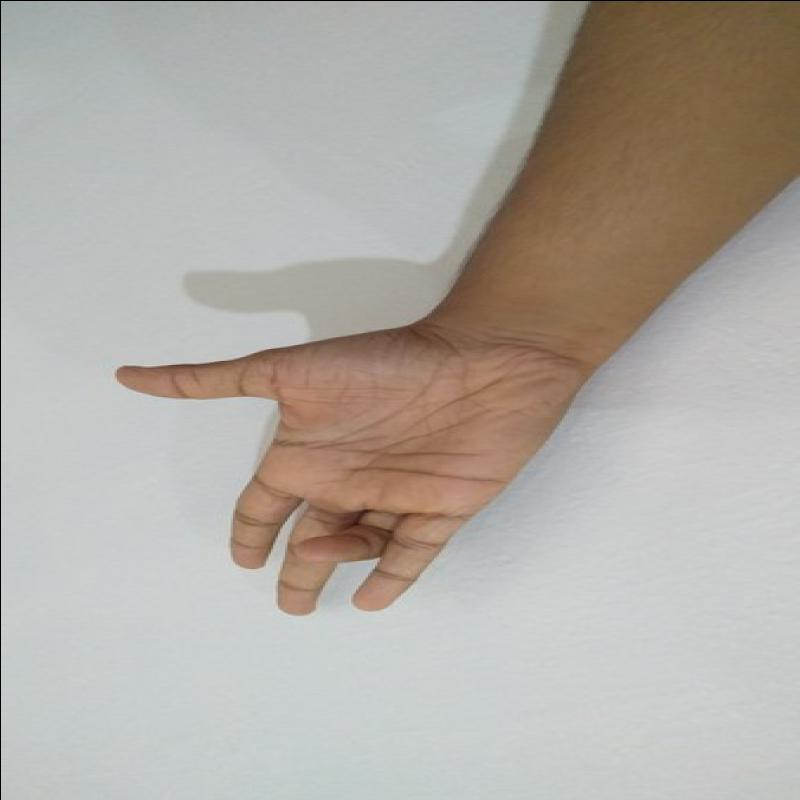Pathaaka: (111, 318, 599, 631)
